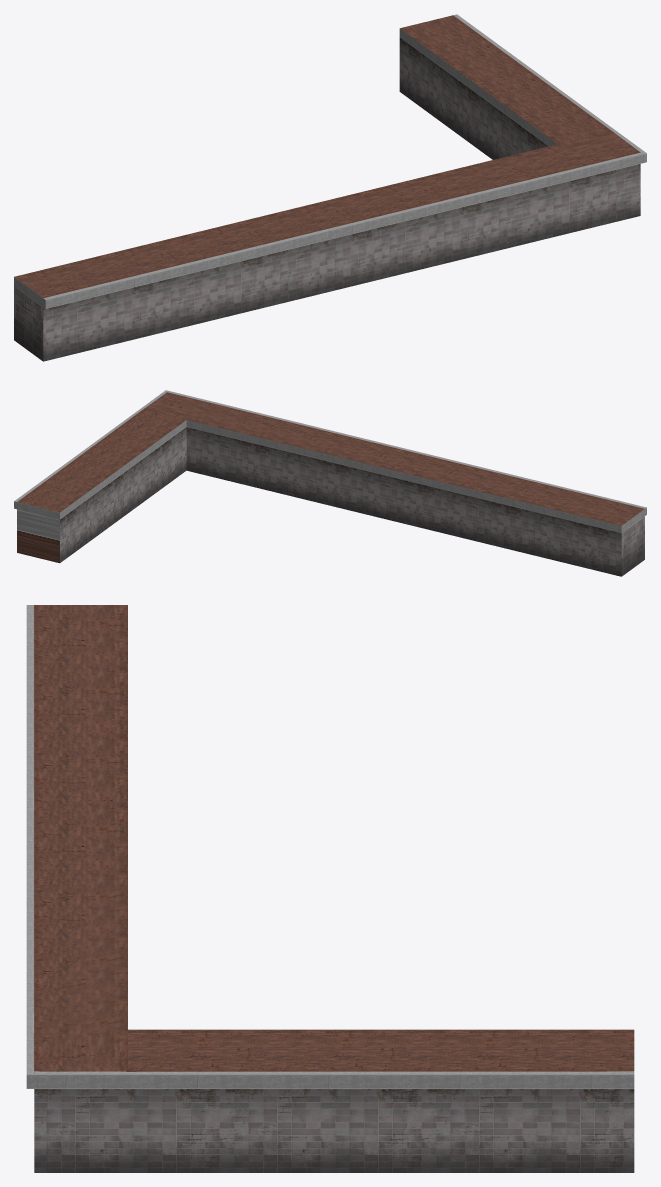
Rendered from TicketOffice.fbx.
The picture shows the model from 3 angles, top to bottom: view 1: azimuth 30°, elevation 25°; view 2: azimuth 150°, elevation 25°; view 3: azimuth 270°, elevation 25°; orthographic projection. The views are drawn at different scales.
Parts seen in each view (by area): view 1: TicketOffice; view 2: TicketOffice; view 3: TicketOffice.
Part boxes in pixels (<box>): TicketOffice: <box>14,14,646,361</box>; TicketOffice: <box>14,390,646,576</box>; TicketOffice: <box>26,605,634,1172</box>.
Bounding box in the file's own units: 544 × 54.85 × 298.
